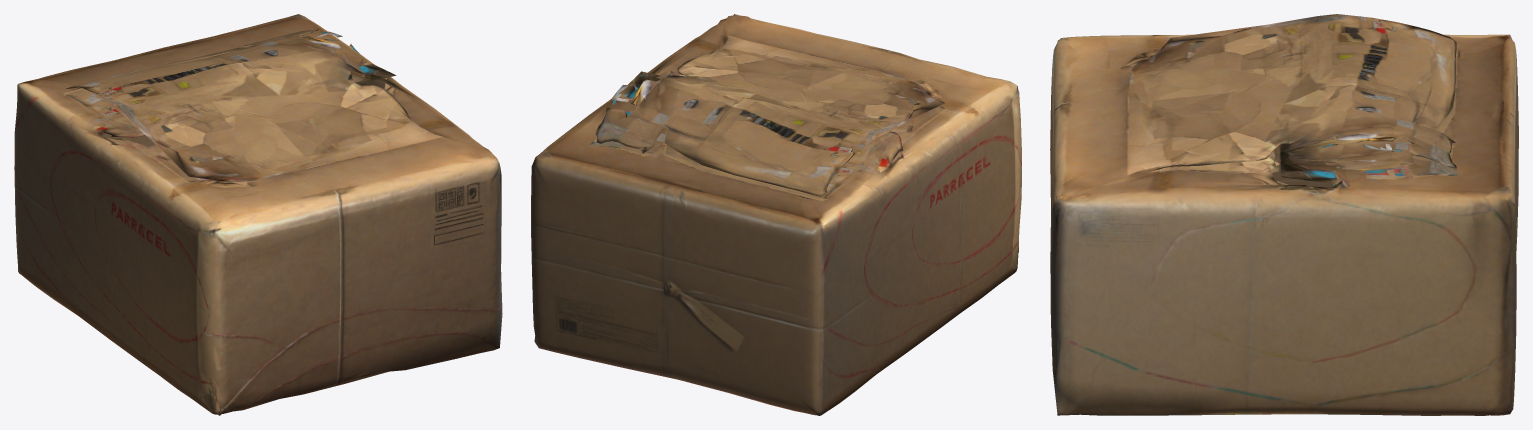
The model's file is Create_a_low_poly_3D__0318122105_texture.fbx.
3 views of the same model, side by side, from view 1: azimuth 30°, elevation 25°; view 2: azimuth 150°, elevation 25°; view 3: azimuth 270°, elevation 25° (orthographic). The views are drawn at different scales.
Parts seen in each view (by area): view 1: Mesh1; view 2: Mesh1; view 3: Mesh1.
Boxes of the visible parts, x1,y1,x2,y2 form: Mesh1: [14, 14, 502, 415]; Mesh1: [531, 14, 1021, 415]; Mesh1: [1050, 14, 1518, 415].
Bounding box in the file's own units: 172 × 124 × 200.
Materials: 1 (1 with a texture image).
